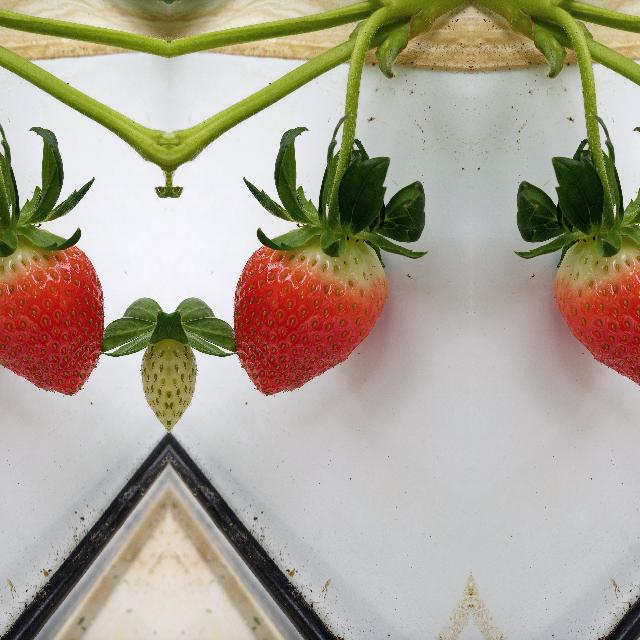Health_100: (231, 228, 387, 396), (0, 227, 105, 396), (554, 227, 640, 396)
